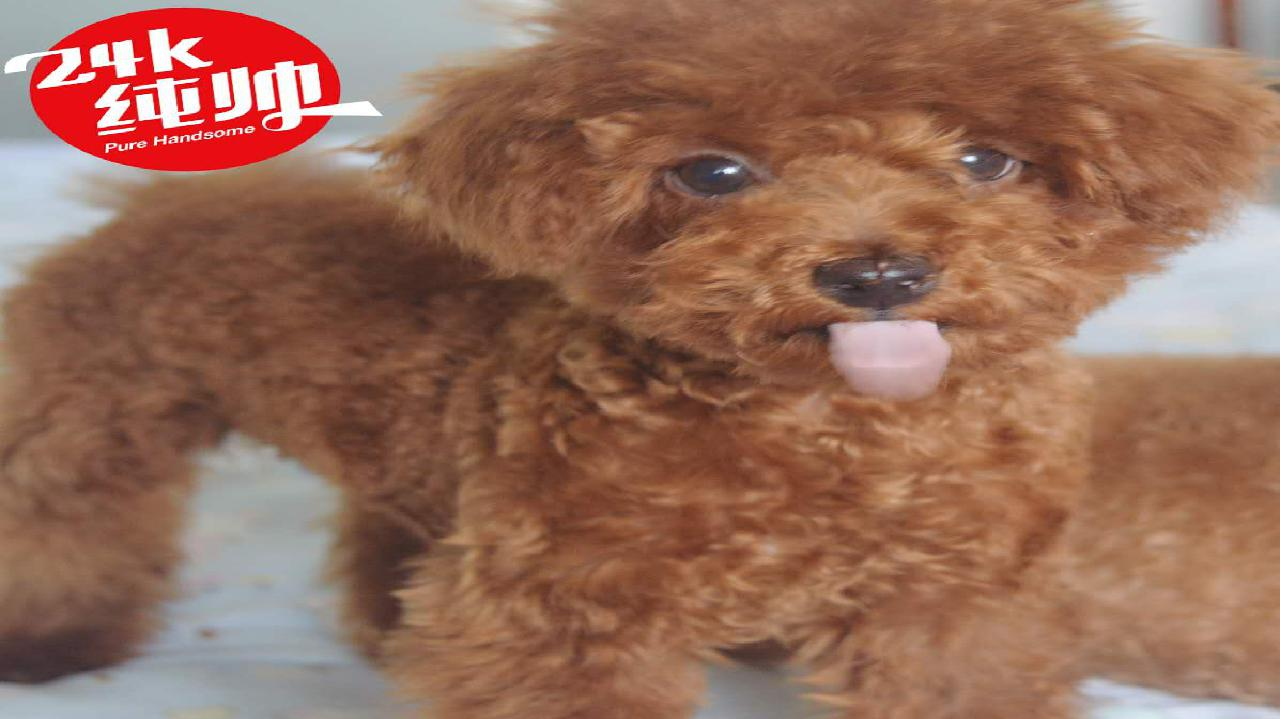coin: (9, 45, 1246, 719)
